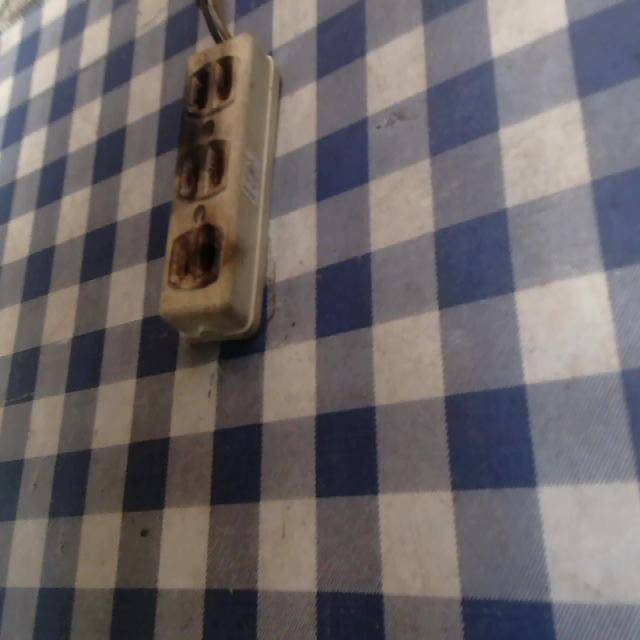-: (166, 221, 225, 291), (185, 52, 236, 115), (174, 139, 228, 196)
